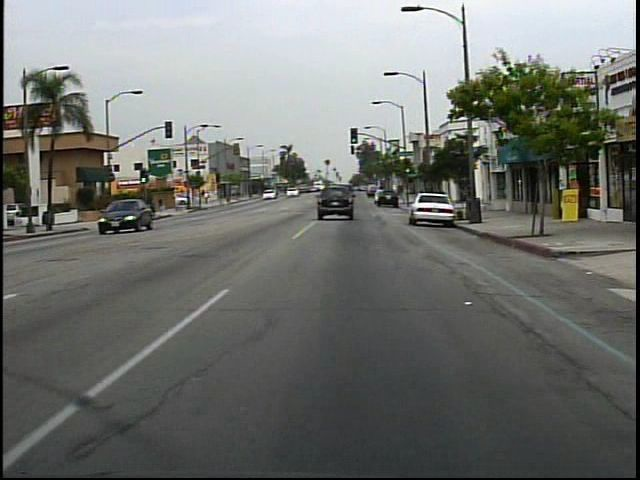person: (203, 189, 212, 207)
